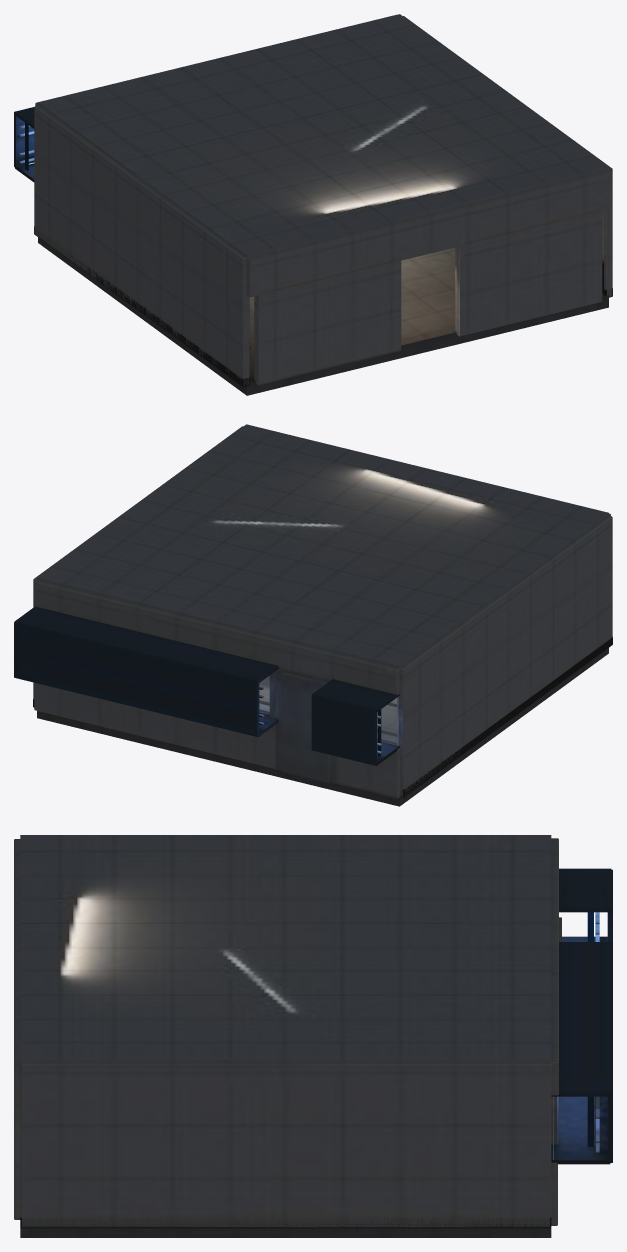
Rendered from matter-workshop-orbital-focused.glb.
The picture shows the model from 3 angles, top to bottom: view 1: azimuth 30°, elevation 25°; view 2: azimuth 150°, elevation 25°; view 3: azimuth 270°, elevation 25°; orthographic projection. The views are drawn at different scales.
Visible parts, largest first — view 1: Orbital baked static surfaces; view 2: Orbital baked static surfaces, Service window glass; view 3: Orbital baked static surfaces.
Boxes of the visible parts, <box> form: Orbital baked static surfaces: <box>14,14,612,395</box>; Orbital baked static surfaces: <box>14,424,612,806</box>; Service window glass: <box>377,697,398,745</box>; Orbital baked static surfaces: <box>14,835,612,1237</box>.
Size of the model in its own units: 12.29 by 4.45 by 13.53.
11 materials, 5 textured.
